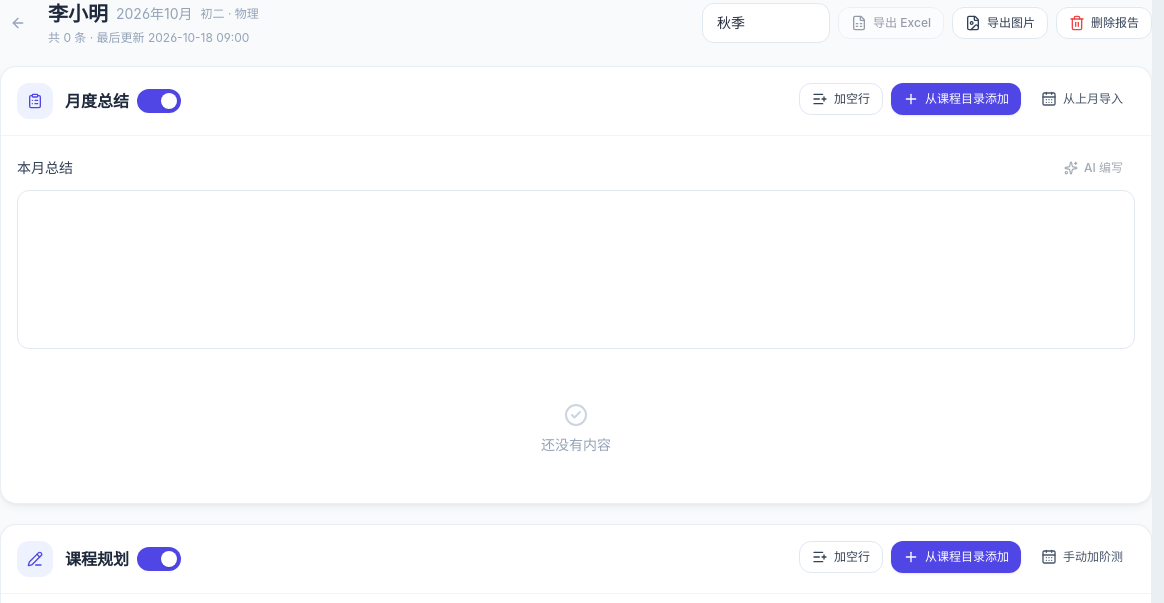
Scenario: 月度报告编辑器 › 可以手动加一条阶测
Click the button "手动加阶测" at (1082, 556), box [1029,540,1135,572]
(page scrolled)
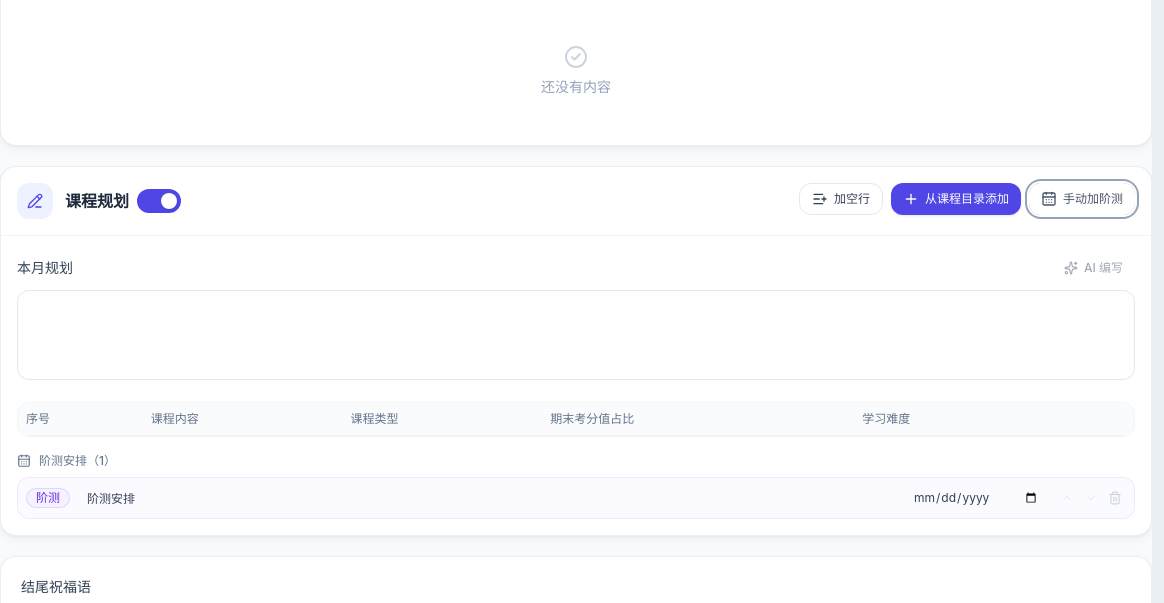
expect the text "阶测安排（1）" is shown: met, box [17,453,116,468]
expect the field named "阶测内容" is shown: met, box [78,482,896,514]
